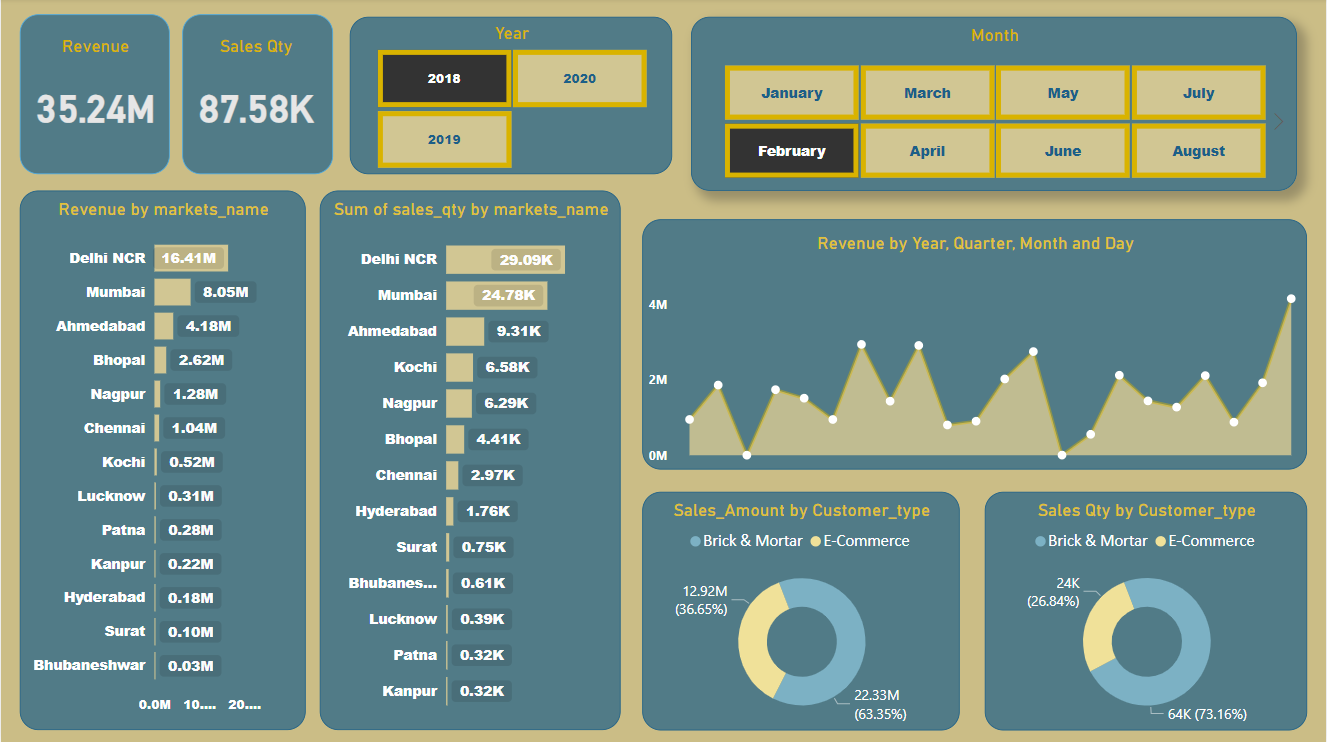

This screenshot's page, from the dashboard's own definition file:
{"tool":"powerbi","page":{"name":"Page 1","canvas":[1280,720],"ordinal":0},"visuals":[{"type":"card","title":"Revenue","fields":{"Values":["BaseMeasure.Revenue"]},"box":[18.1,15.7,144.8,154.4],"z":0},{"type":"slicer","title":"Year","fields":{"Values":["sales date.year"]},"box":[336.6,18.1,311.3,152],"z":1000},{"type":"slicer","title":"Month","fields":{"Values":["sales date.cy_date.Variation.Date Hierarchy.Month"]},"box":[666,18.1,585.1,167.7],"z":2000},{"type":"barChart","fields":{"Category":["sales markets.markets_name"],"Y":["BaseMeasure.Revenue"]},"box":[18.1,185.8,276.3,521.2],"z":3000},{"type":"lineChart","fields":{"Y":["BaseMeasure.Revenue"],"Category":["sales date.date.Variation.Date Hierarchy.Year","sales date.date.Variation.Date Hierarchy.Quarter","sales date.date.Variation.Date Hierarchy.Month","sales date.date.Variation.Date Hierarchy.Day"]},"box":[618.9,213.5,641.8,241.3],"z":4000},{"type":"card","title":"Sales Qty","fields":{"Values":["Sum(sales transactions.sales_qty)"]},"box":[174.9,15.7,146,154.4],"z":5000},{"type":"barChart","fields":{"Category":["sales markets.markets_name"],"Y":["Sum(sales transactions.sales_qty)"]},"box":[307.6,185.8,290.8,521.2],"z":6000},{"type":"donutChart","title":"Sales Qty by Customer_type","fields":{"Category":["sales customers.customer_type"],"Y":["Sum(sales transactions.sales_qty)"]},"box":[949.5,476.5,311.3,230.4],"z":7000},{"type":"donutChart","title":"Sales_Amount by Customer_type","fields":{"Category":["sales customers.customer_type"],"Y":["Sum(sales transactions.sales_amount)"]},"box":[618.9,476.5,306.4,230.4],"z":8000}]}

Visuals, with their boxes in screenshot pixels (x1, y1, x2, y2), scaled from the page's 1280x720 canvas onto the 1327x742 screenshot:
"Revenue" card: l=19, t=16, r=169, b=175
"Year" slicer: l=349, t=19, r=672, b=175
"Month" slicer: l=690, t=19, r=1297, b=191
barChart - sales markets.markets_name x BaseMeasure.Revenue: l=19, t=191, r=305, b=729
lineChart - BaseMeasure.Revenue x sales date.date.Variation.Date Hierarchy.Year: l=642, t=220, r=1307, b=469
"Sales Qty" card: l=181, t=16, r=333, b=175
barChart - sales markets.markets_name x Sum(sales transactions.sales_qty): l=319, t=191, r=620, b=729
"Sales Qty by Customer_type" donutChart: l=984, t=491, r=1307, b=728
"Sales_Amount by Customer_type" donutChart: l=642, t=491, r=959, b=728
